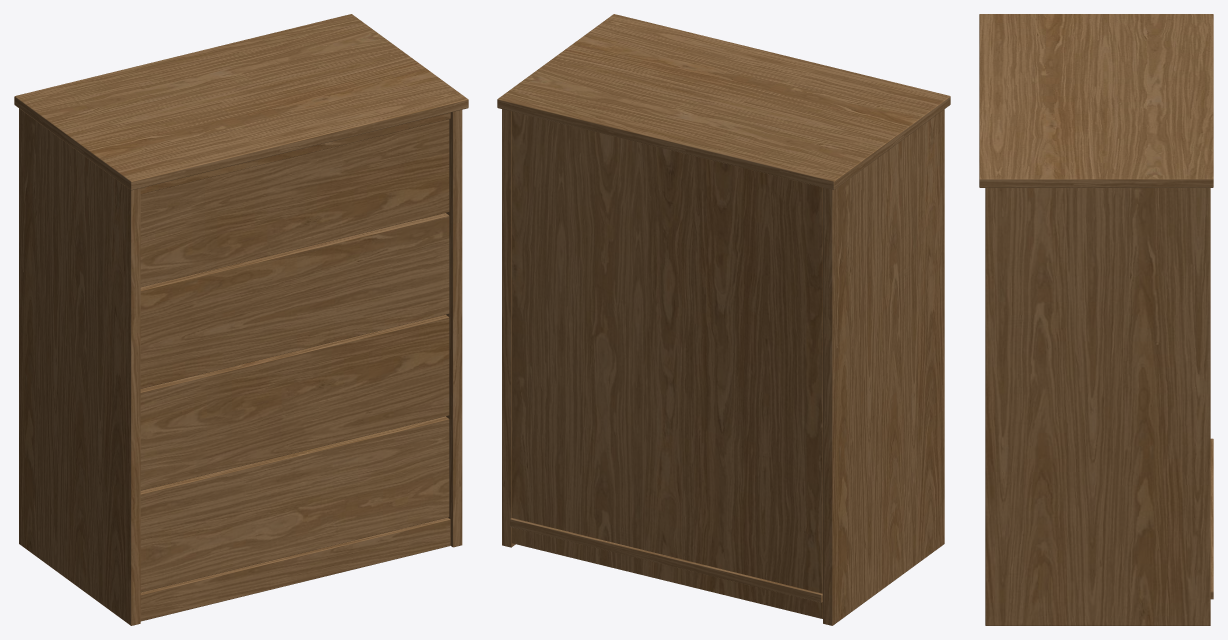
The model's file is campus-drawer-chest.glb.
3 renders of one model, left to right at view 1: azimuth 30°, elevation 25°; view 2: azimuth 150°, elevation 25°; view 3: azimuth 270°, elevation 25°, orthographic.
Parts seen in each view (by area): view 1: Left full-height oak side, Overhanging solid oak top, Drawer 2 • oak slab front, Drawer 3 • oak slab front, Drawer 4 • oak slab front, Drawer 1 • oak slab front, Inset toe board, Right full-height oak side, Upper front rail; view 2: Veneer back panel, Left full-height oak side, Overhanging solid oak top, Right full-height oak side, Cabinet bottom deck; view 3: Right full-height oak side, Overhanging solid oak top, Cabinet bottom deck.
Boxes of the visible parts, bbox=[...] form: Left full-height oak side: bbox=[19, 108, 140, 625]; Overhanging solid oak top: bbox=[14, 14, 468, 190]; Drawer 2 • oak slab front: bbox=[140, 213, 449, 388]; Drawer 3 • oak slab front: bbox=[140, 314, 449, 490]; Drawer 4 • oak slab front: bbox=[140, 416, 449, 592]; Drawer 1 • oak slab front: bbox=[140, 119, 449, 286]; Inset toe board: bbox=[140, 517, 450, 621]; Right full-height oak side: bbox=[446, 110, 462, 547]; Upper front rail: bbox=[140, 112, 450, 194]; Veneer back panel: bbox=[511, 111, 822, 618]; Left full-height oak side: bbox=[823, 109, 944, 625]; Overhanging solid oak top: bbox=[497, 14, 950, 189]; Right full-height oak side: bbox=[502, 109, 515, 547]; Cabinet bottom deck: bbox=[510, 518, 822, 602]; Right full-height oak side: bbox=[985, 188, 1210, 625]; Overhanging solid oak top: bbox=[979, 14, 1213, 187]; Cabinet bottom deck: bbox=[1210, 438, 1213, 599].
Size of the model in its own units: 0.762 by 0.9652 by 0.4572.
Materials: 4 (2 with a texture image).
